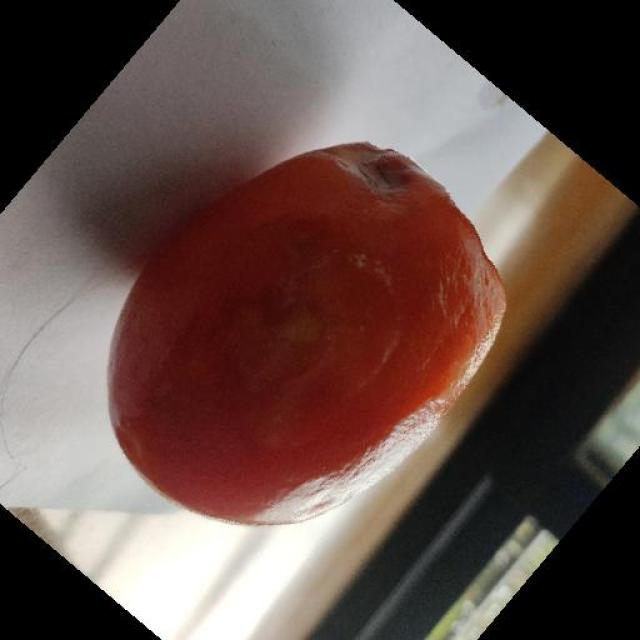Stale_tomato: (113, 134, 526, 534)
